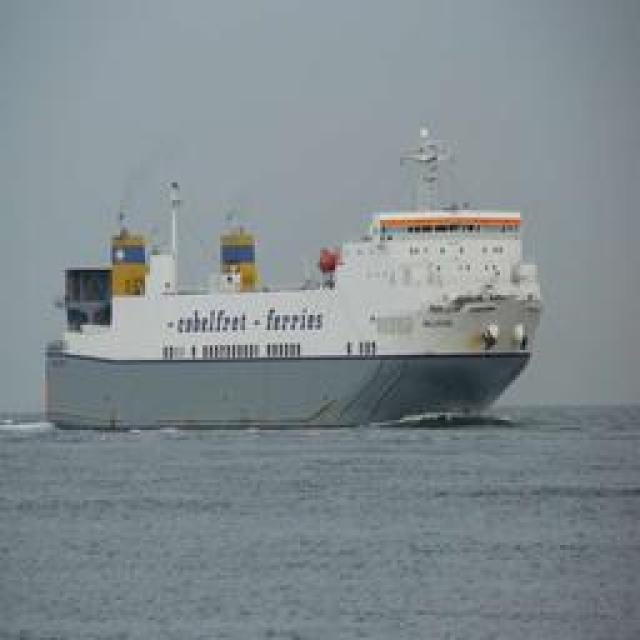CIV_Ship: (25, 164, 545, 428)
